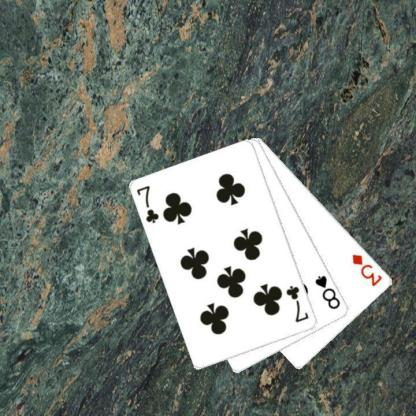3D: (350, 251, 384, 288)
7C: (134, 183, 161, 225), (284, 283, 310, 324)
8S: (313, 273, 342, 311)
